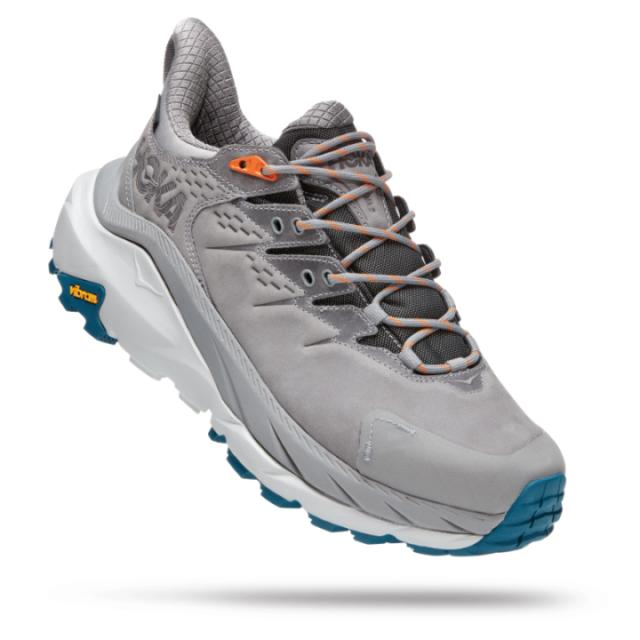shoe: (31, 10, 580, 565)
